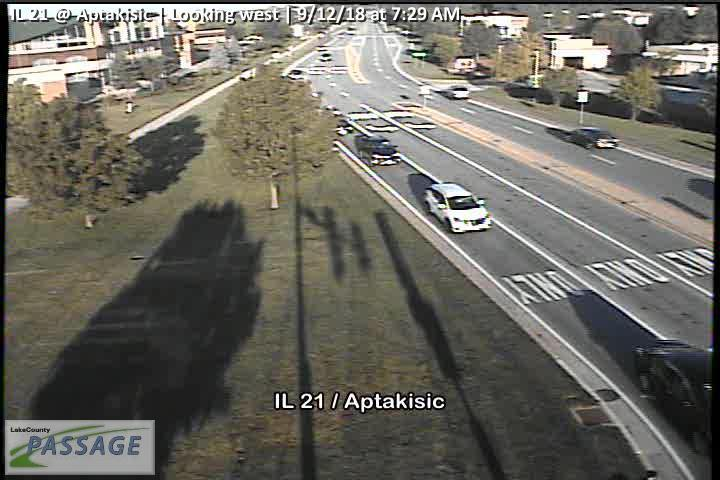Sedan: (636, 338, 713, 453), (425, 183, 491, 233), (353, 134, 401, 166), (563, 126, 616, 149), (443, 83, 469, 99), (287, 68, 302, 81)
